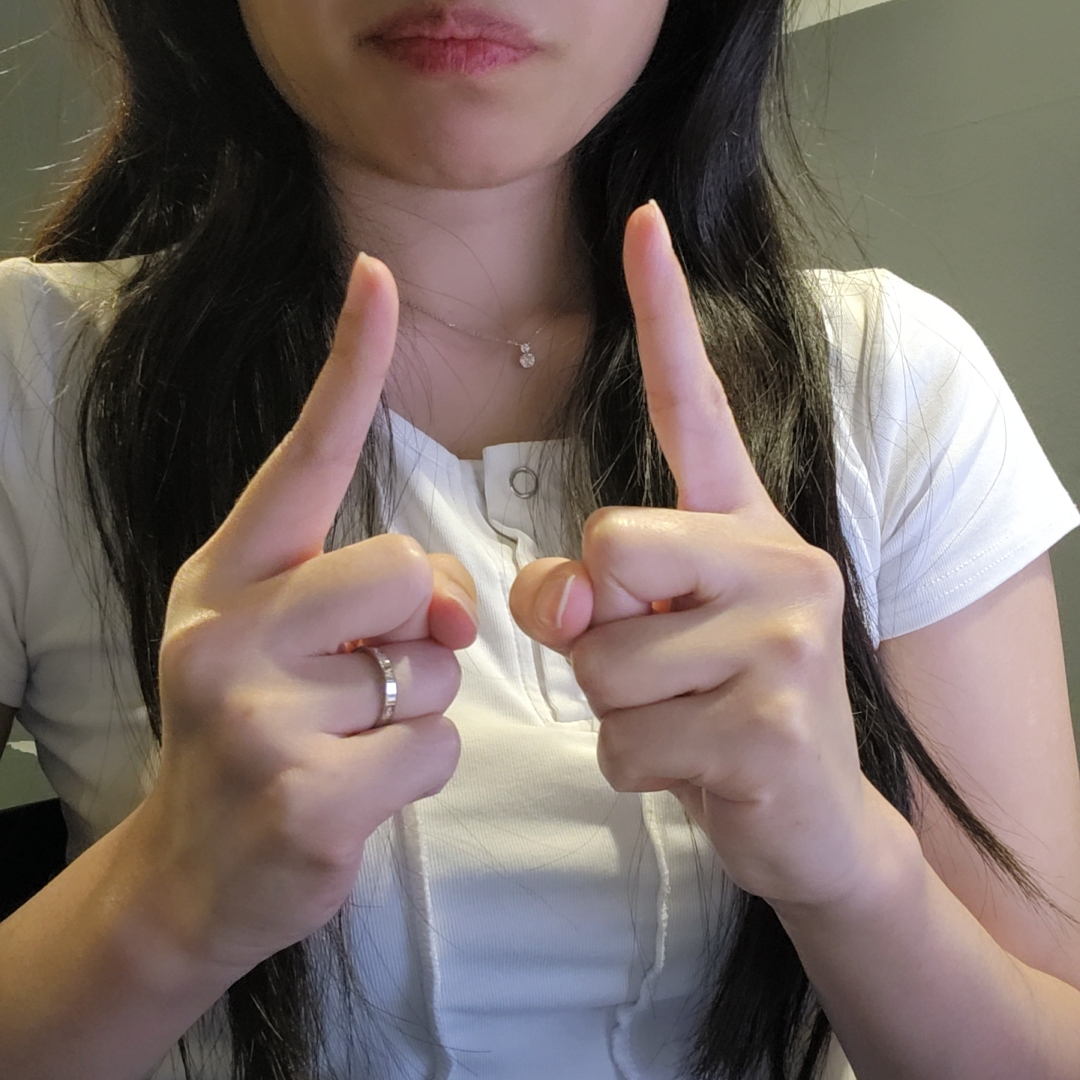meet: (148, 203, 873, 960)
